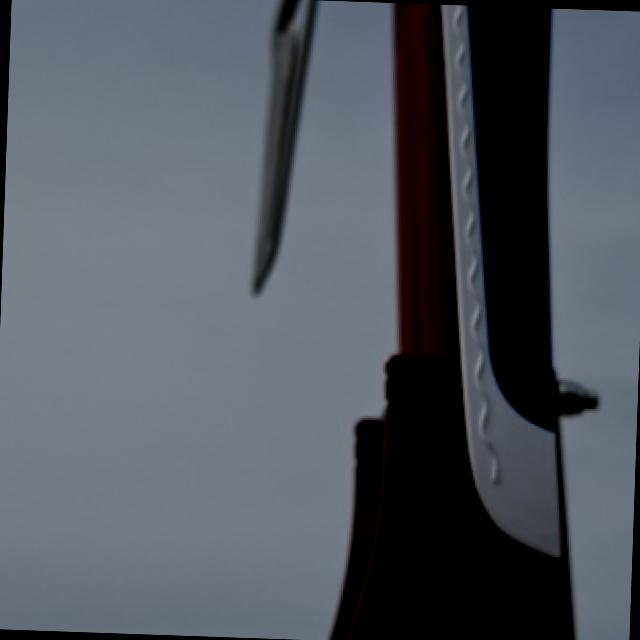healthy: (328, 2, 571, 640)
